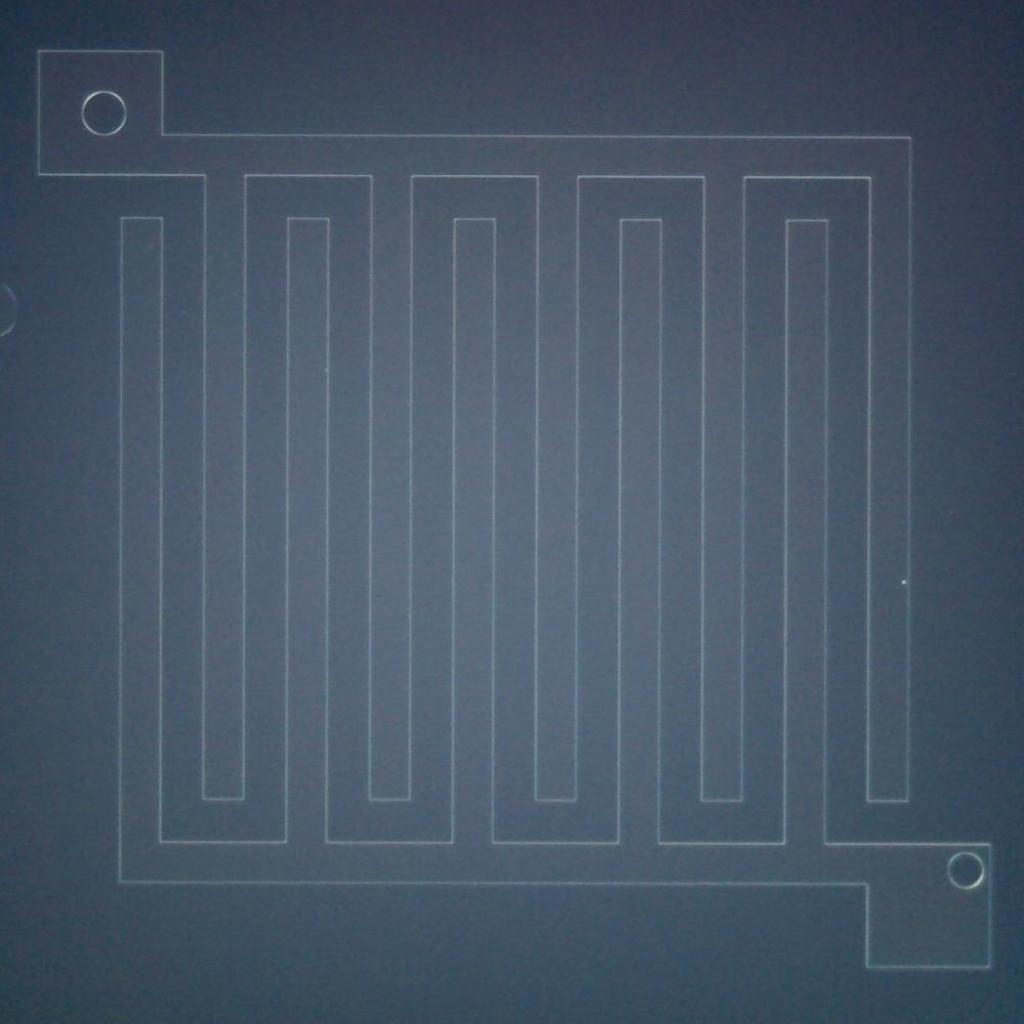dot: (902, 580, 906, 584)
